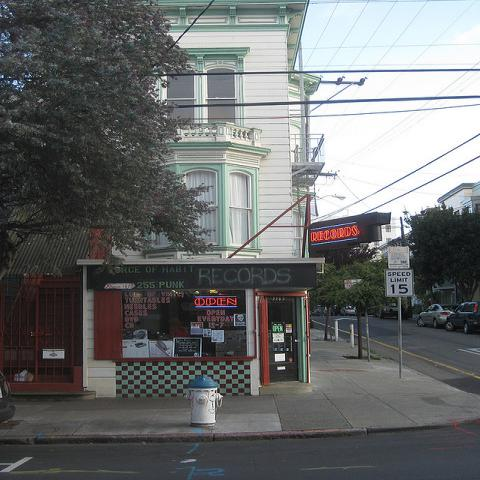car: (444, 302, 479, 334), (417, 303, 458, 329), (0, 371, 17, 423), (379, 301, 408, 320), (311, 305, 328, 317), (341, 306, 357, 316), (330, 305, 340, 316)
